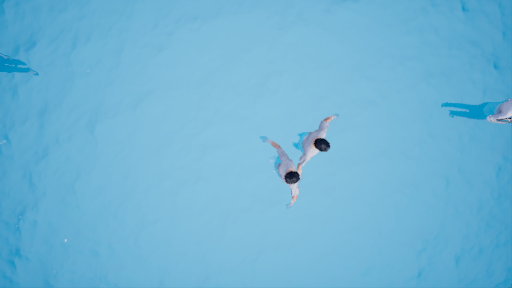person: (253, 132, 304, 213), (290, 105, 344, 175), (436, 99, 512, 129)
